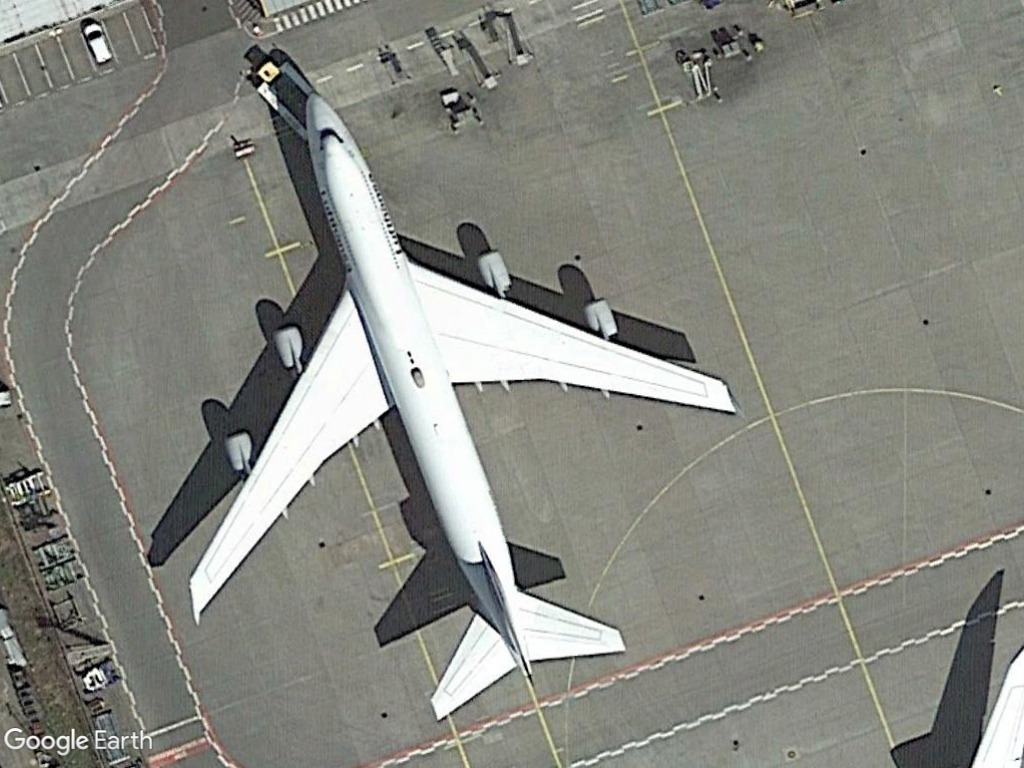airliner: (179, 88, 740, 719)
van: (71, 10, 121, 75)
